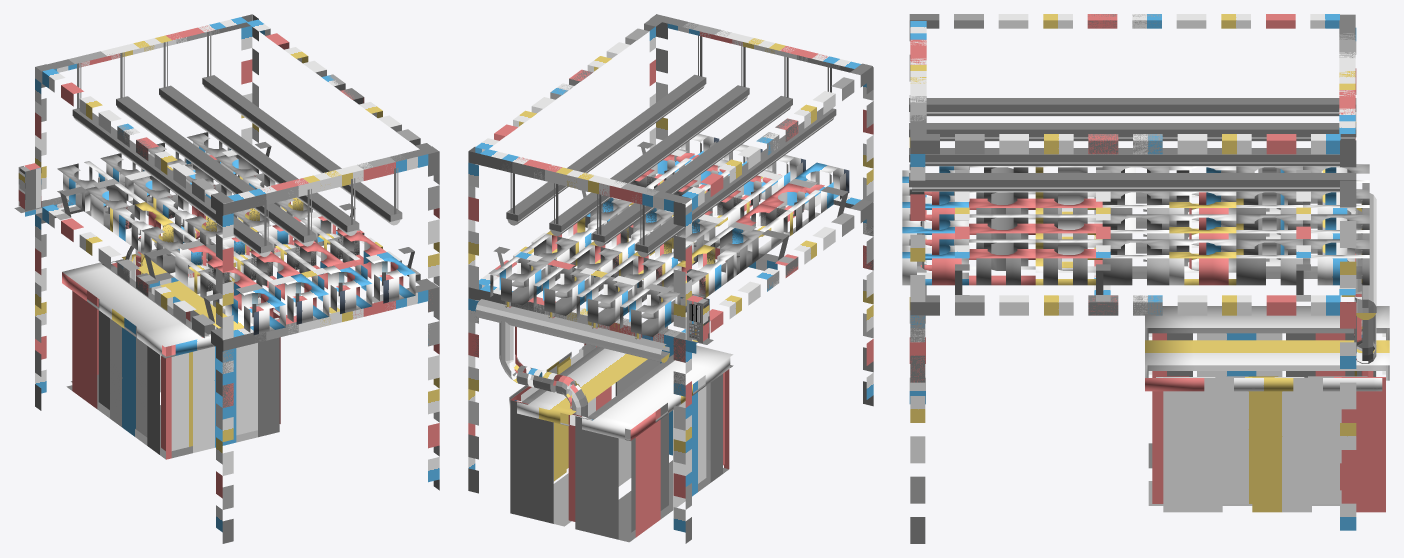
The picture shows the model from 3 angles, left to right: view 1: azimuth 30°, elevation 25°; view 2: azimuth 150°, elevation 25°; view 3: azimuth 270°, elevation 25°; orthographic projection. The views are drawn at different scales.
Parts seen in each view (by area): view 1: Object_64, Object_48, Object_66, Object_46, Object_50, Object_52, Object_77, Object_102, Object_109, Object_116, Object_89, Object_95 (+15 smaller); view 2: Object_64, Object_66, Object_48, Object_46, Object_50, Object_52, Object_79, Object_73, Object_102, Object_109, Object_116, Object_95 (+20 smaller); view 3: Object_64, Object_50, Object_66, Object_52, Object_46, Object_116, Object_95, Object_109, Object_91, Object_16, Object_102, Object_89 (+13 smaller).
Boxes of the visible parts, x1,y1,x2,y2 form: Object_64: (66, 249, 280, 459); Object_48: (57, 161, 285, 334); Object_66: (62, 249, 287, 358); Object_46: (100, 153, 329, 324); Object_50: (187, 132, 415, 303); Object_52: (148, 142, 372, 313); Object_77: (223, 146, 438, 215); Object_102: (116, 96, 315, 246); Object_109: (159, 85, 359, 235); Object_116: (202, 75, 402, 225); Object_89: (42, 69, 233, 215); Object_95: (72, 108, 272, 256); Object_64: (510, 346, 729, 542); Object_66: (509, 343, 733, 440); Object_48: (620, 162, 849, 336); Object_46: (576, 155, 805, 326); Object_50: (490, 134, 719, 305); Object_52: (533, 144, 762, 315); Object_79: (469, 149, 691, 212); Object_73: (475, 299, 669, 362); Object_102: (592, 96, 792, 246); Object_109: (549, 85, 749, 236); Object_116: (506, 74, 706, 225); Object_95: (636, 107, 836, 257); Object_64: (1148, 333, 1385, 512); Object_50: (902, 239, 1369, 285); Object_66: (1145, 306, 1389, 391); Object_52: (902, 214, 1369, 259); Object_46: (902, 189, 1369, 234); Object_116: (909, 173, 1356, 191); Object_95: (909, 98, 1356, 116); Object_109: (909, 148, 1339, 166); Object_91: (910, 134, 1340, 154); Object_16: (910, 295, 1340, 315); Object_102: (909, 123, 1356, 141); Object_89: (909, 14, 1339, 28).
Bounding box in the file's own units: 276 × 376 × 411.
Materials: 14 (14 with a texture image).
